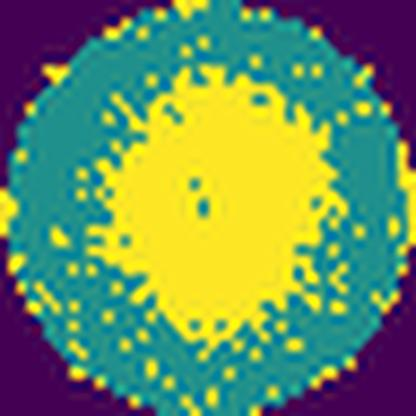Center: (101, 64, 330, 340)
